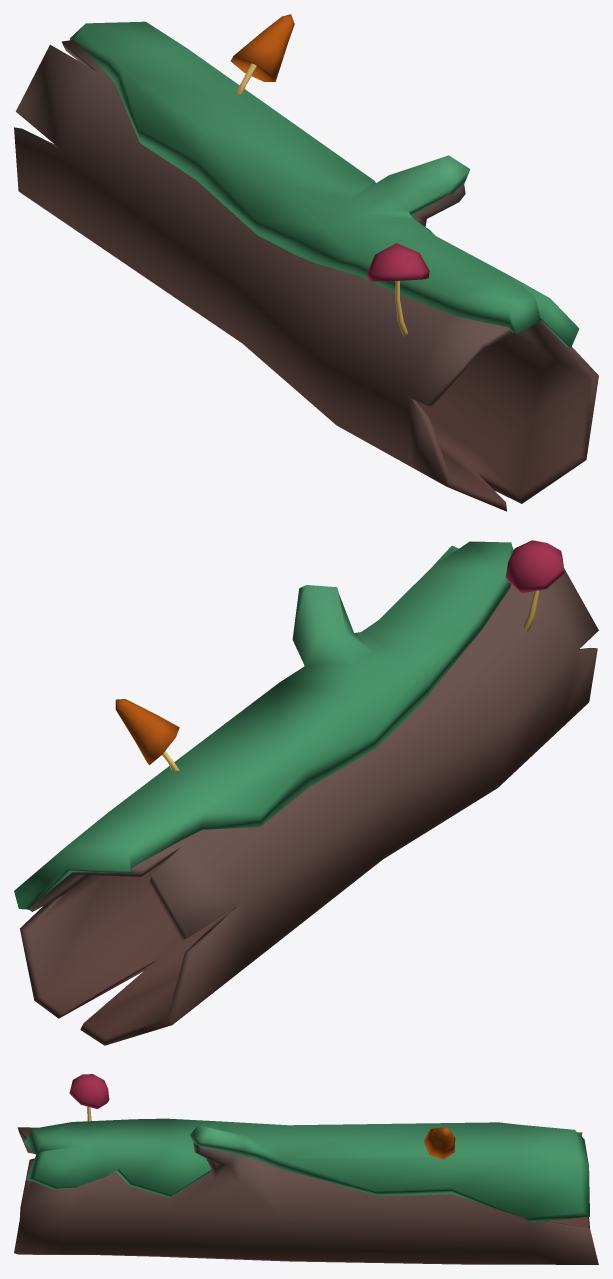
Rendered from Trunk.fbx.
The picture shows the model from 3 angles, top to bottom: view 1: azimuth 30°, elevation 25°; view 2: azimuth 150°, elevation 25°; view 3: azimuth 270°, elevation 25°; orthographic projection. The views are drawn at different scales.
Visible parts, largest first — view 1: tree-trunk.004; view 2: tree-trunk.004; view 3: tree-trunk.004.
Part boxes in pixels (x1=…): tree-trunk.004: x1=14, y1=14, x2=598, y2=511; tree-trunk.004: x1=14, y1=540, x2=598, y2=1045; tree-trunk.004: x1=14, y1=1074, x2=598, y2=1264.
Bounding box in the file's own units: 122 × 152 × 481.
